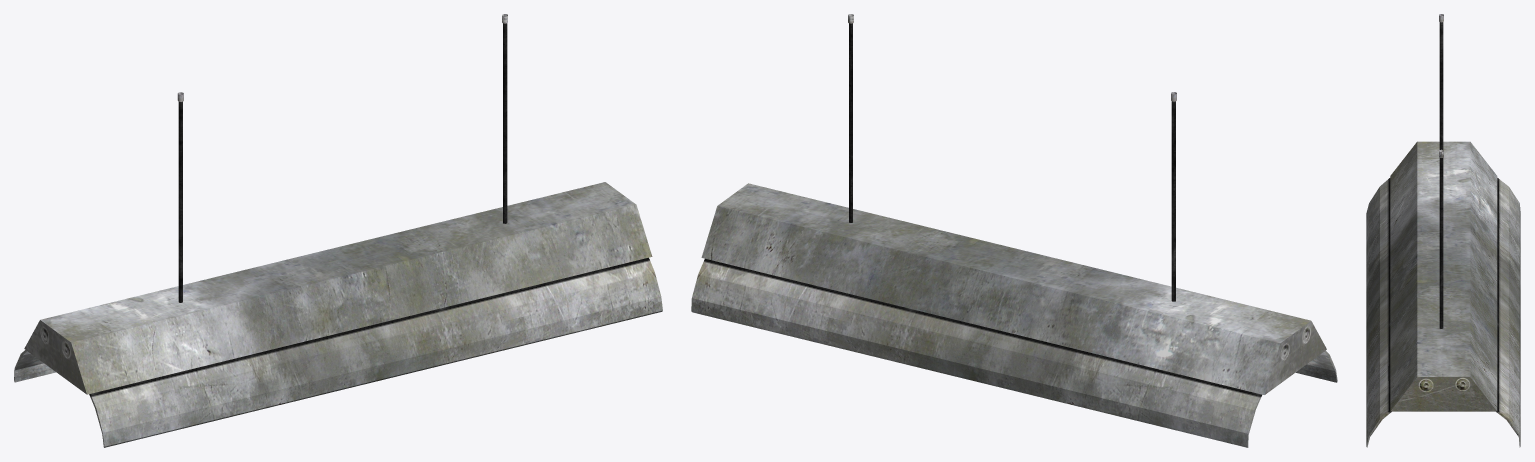
File: Light_Fluor_A_NoPlug.fbx
3 renders of one model, left to right at view 1: azimuth 30°, elevation 25°; view 2: azimuth 150°, elevation 25°; view 3: azimuth 270°, elevation 25°, orthographic. The views are drawn at different scales.
Parts seen in each view (by area): view 1: Light_Fluor_A_NoPlug; view 2: Light_Fluor_A_NoPlug; view 3: Light_Fluor_A_NoPlug.
Boxes of the visible parts, bbox=[...] form: Light_Fluor_A_NoPlug: bbox=[14, 14, 662, 447]; Light_Fluor_A_NoPlug: bbox=[691, 14, 1337, 447]; Light_Fluor_A_NoPlug: bbox=[1366, 14, 1520, 447].
Bounding box in the file's own units: 1.81 × 0.8963 × 0.5013.
